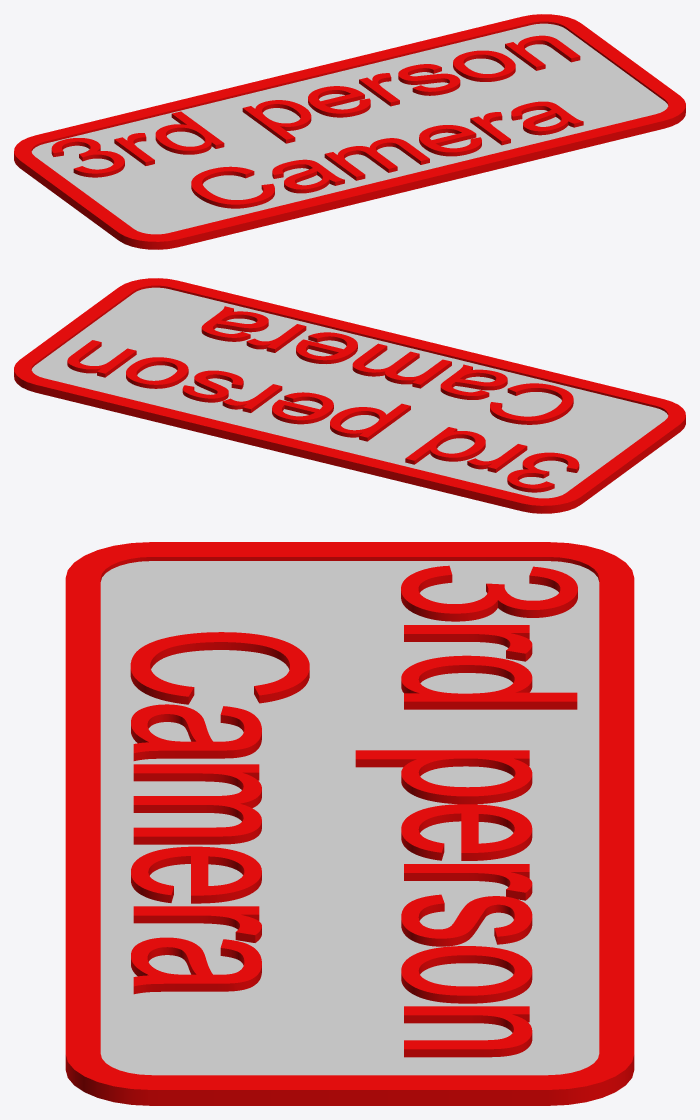
The model's file is 3rdperson sign.fbx.
3 views of the same model, one above another, from view 1: azimuth 30°, elevation 25°; view 2: azimuth 150°, elevation 25°; view 3: azimuth 270°, elevation 25° (orthographic). The views are drawn at different scales.
Visible parts, largest first — view 1: Rectangle012, SignEdge009, Text010; view 2: Rectangle012, SignEdge009, Text010; view 3: Rectangle012, Text010, SignEdge009.
Boxes of the visible parts, box(x1,y1,x2,y2) form: Rectangle012: box(31, 23, 668, 234); SignEdge009: box(14, 14, 685, 249); Text010: box(51, 35, 583, 208); Rectangle012: box(31, 287, 668, 498); SignEdge009: box(14, 278, 685, 513); Text010: box(67, 306, 579, 492); Rectangle012: box(100, 561, 599, 1075); Text010: box(130, 565, 577, 1057); SignEdge009: box(65, 542, 634, 1105).
Size of the model in its own units: 73.82 by 1.3 by 32.39.
